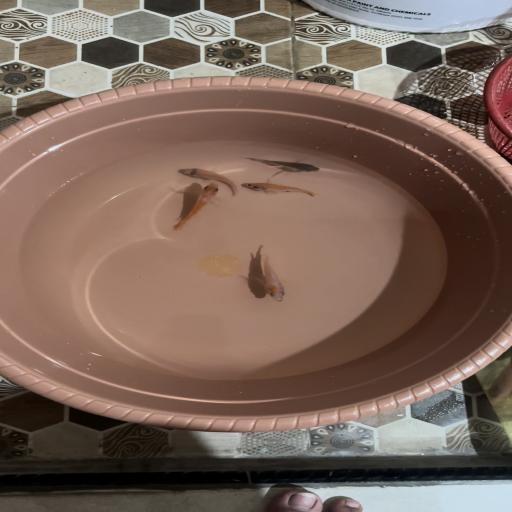nila: (166, 181, 222, 233), (246, 252, 299, 306), (175, 166, 246, 193), (243, 154, 325, 176), (242, 180, 322, 199)
